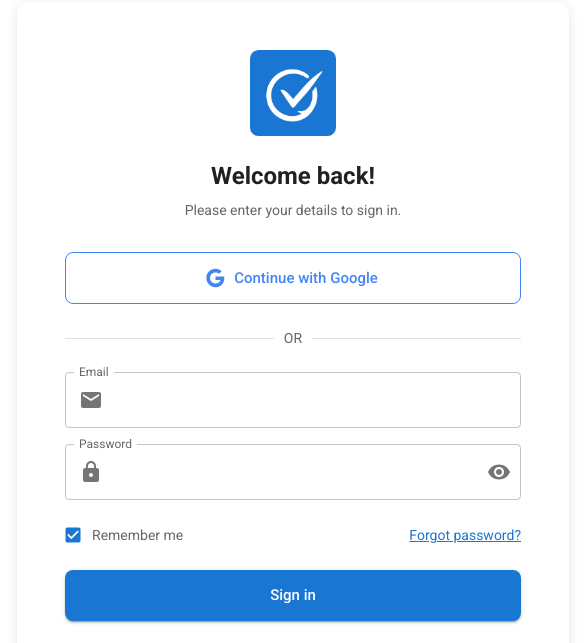
Scenario: Authentication › Login Validation › should show error for empty fields
The width and height of the screenshot is (587, 643).
Click the button "Sign in" at (293, 595), box top-left (65, 570), bottom-right (521, 620)
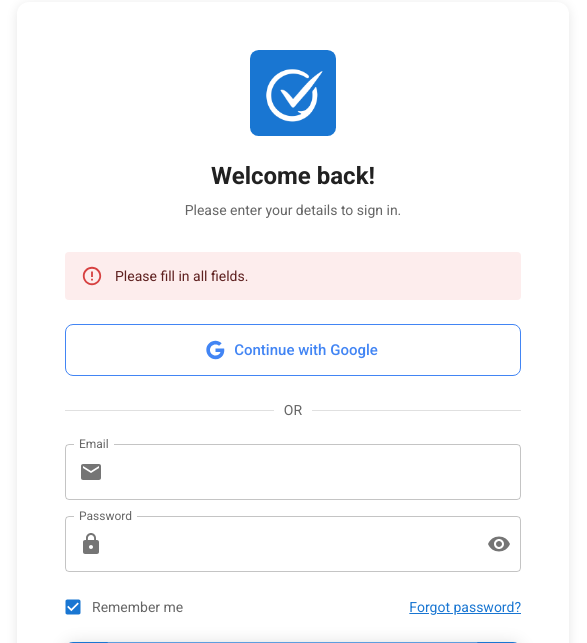
Expected: the text "Please fill in all fields" is shown, top-left (115, 268), bottom-right (248, 284)
